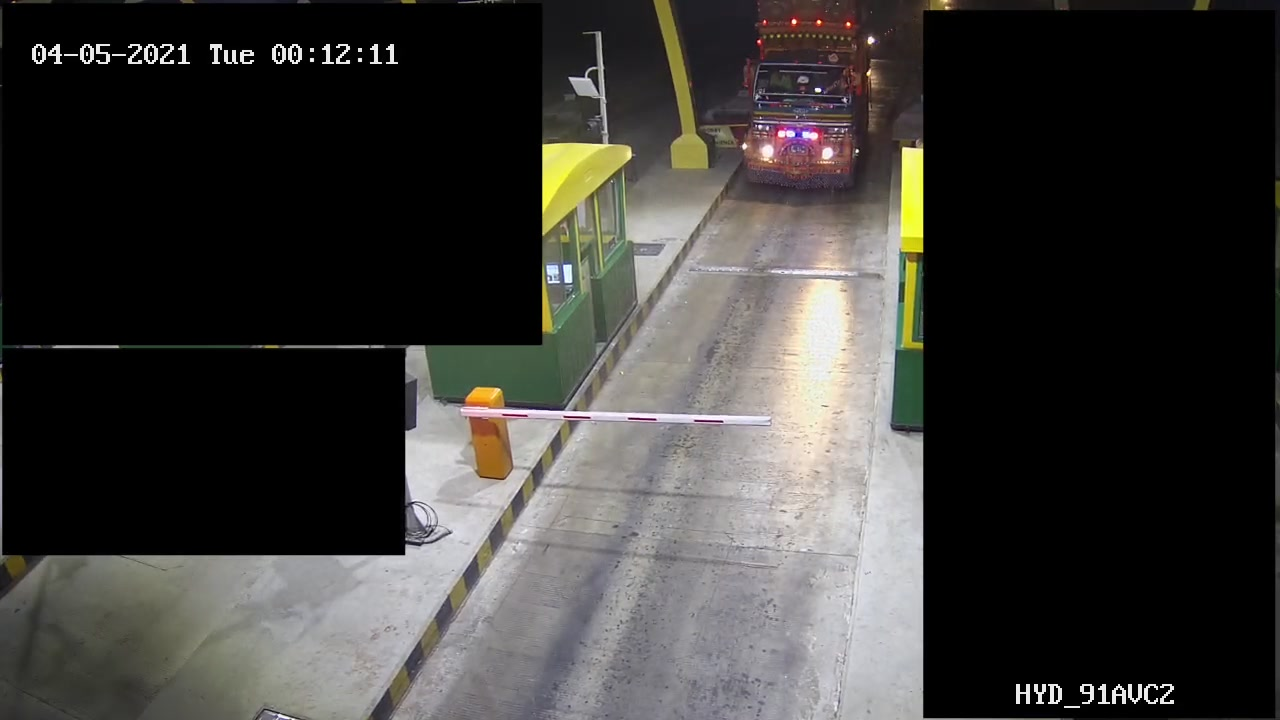F5: (737, 1, 870, 190)
